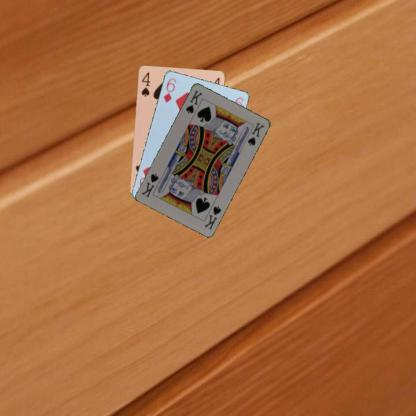4s: (139, 69, 151, 98)
6d: (160, 75, 178, 104)
Ks: (201, 203, 223, 230), (183, 87, 204, 115)
